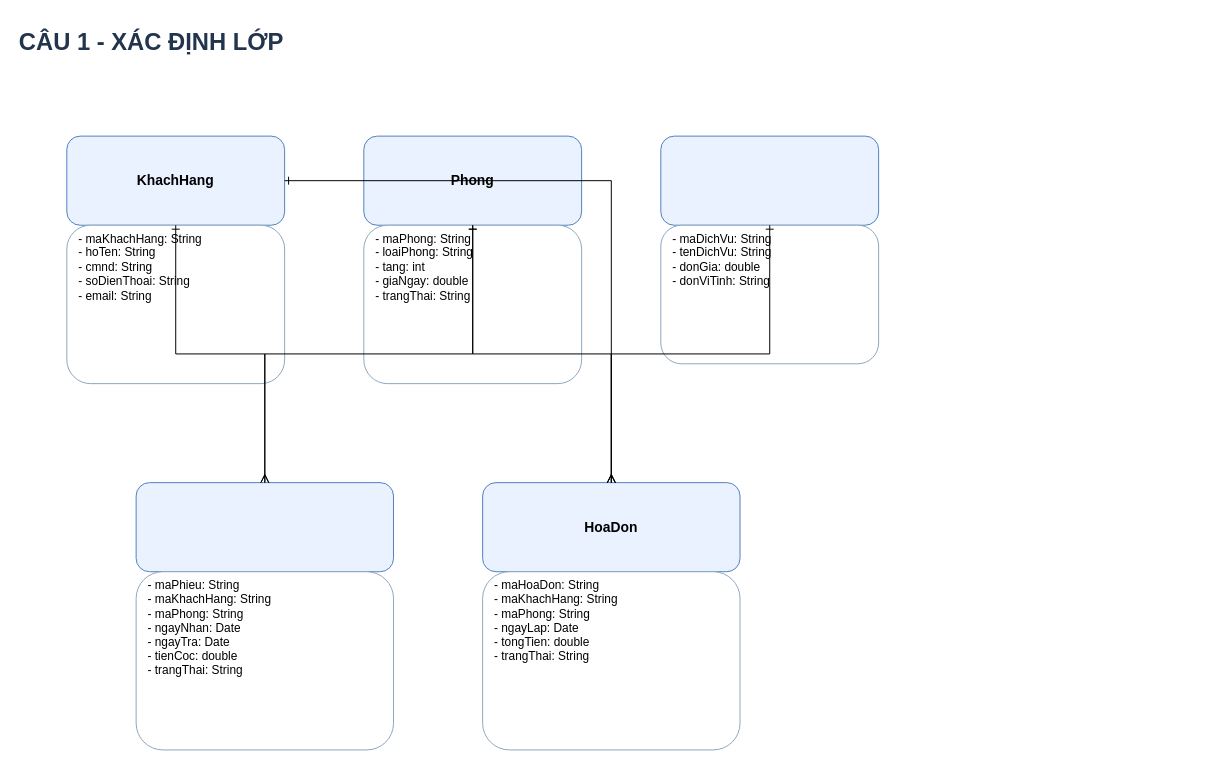
This 1222x767 diagram has some shape labels left out. Each missing label, with the box of its shape:
DichVu: (660, 135, 879, 225)
PhieuDatPhong: (135, 482, 394, 572)
